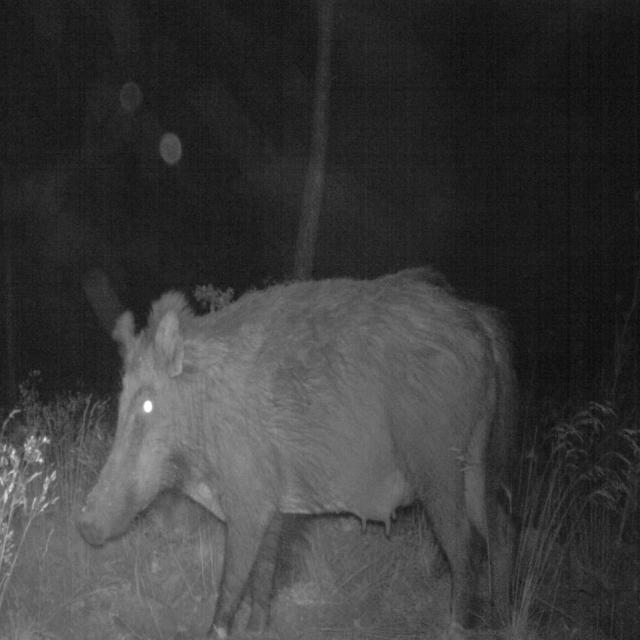pig: (69, 212, 617, 618)
